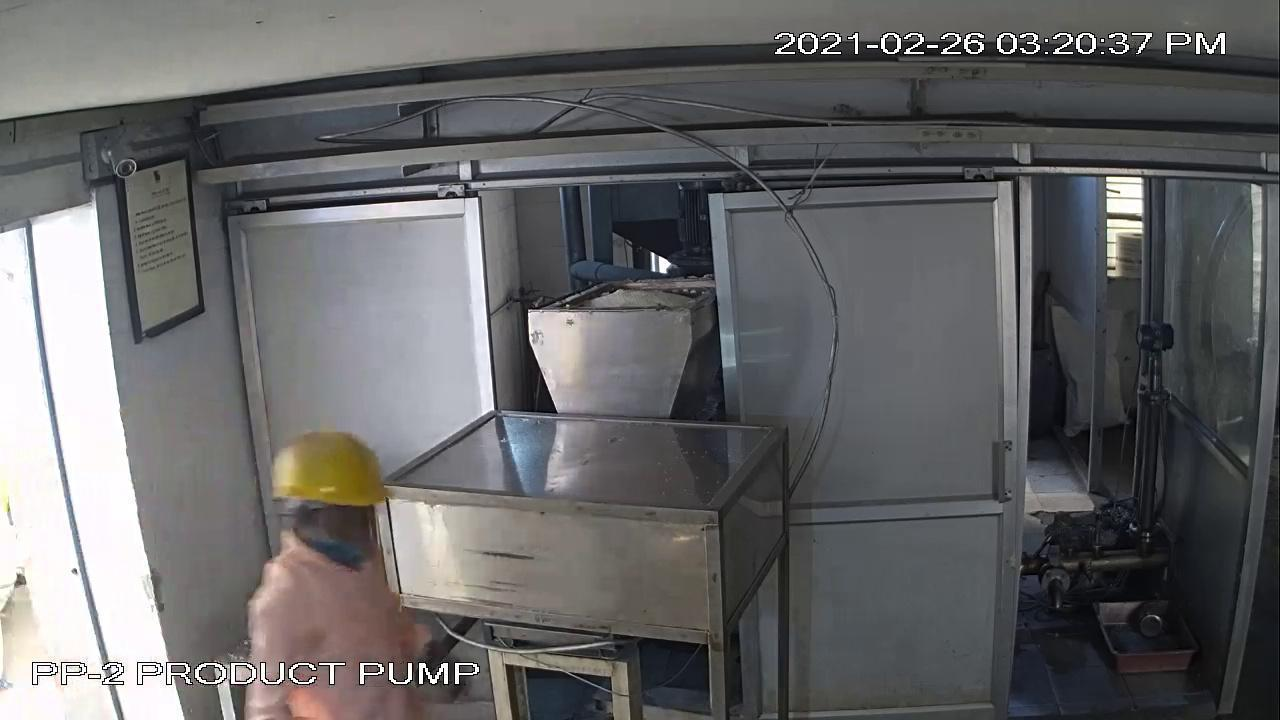helmet: (253, 420, 413, 524)
